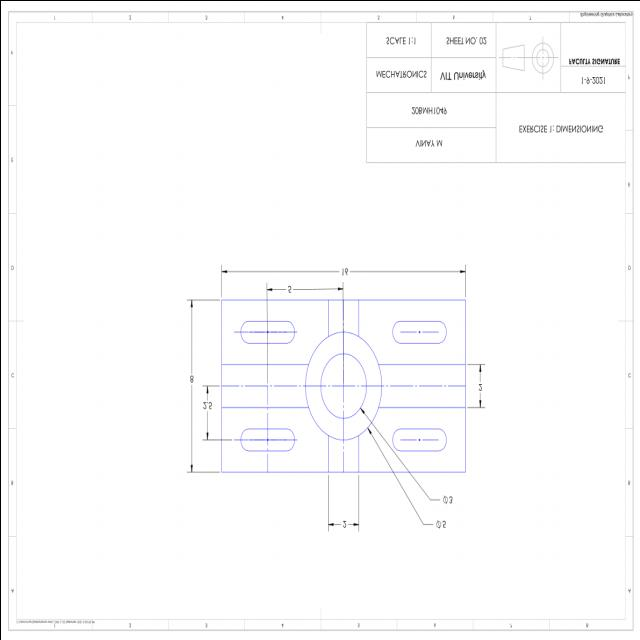Drawings: (184, 260, 490, 536)
